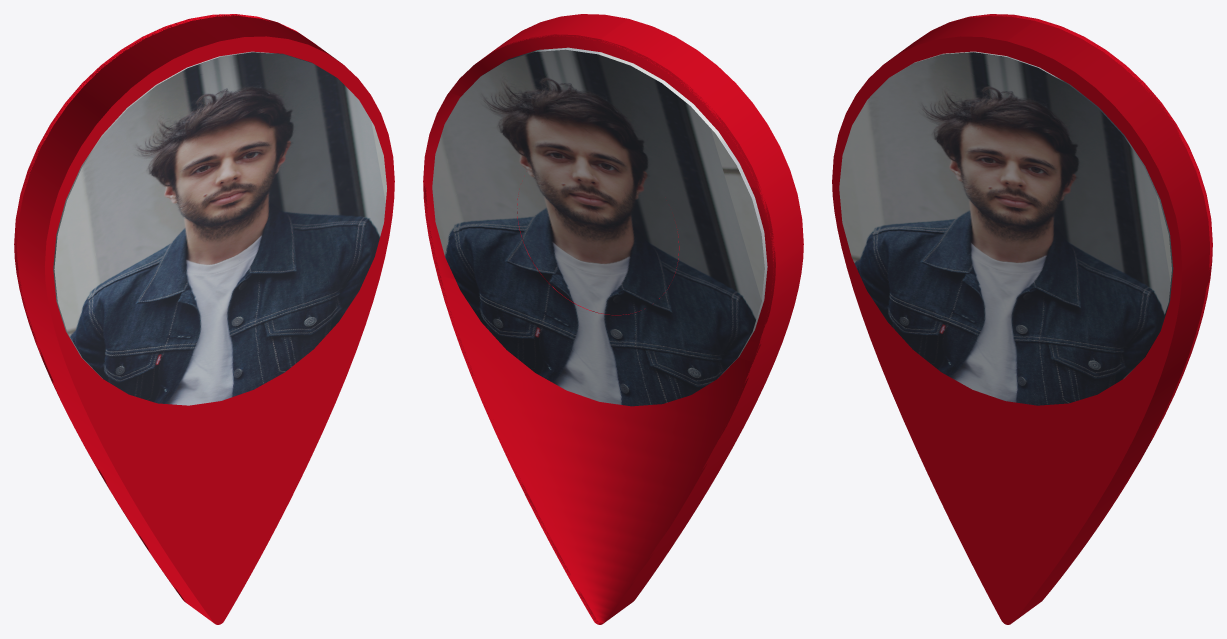
The model's file is alexis.glb.
3 renders of one model, left to right at view 1: azimuth 30°, elevation 25°; view 2: azimuth 150°, elevation 25°; view 3: azimuth 330°, elevation 25°, orthographic.
Visible parts, largest first — view 1: Cylindre, Curve; view 2: Cylindre, Curve; view 3: Cylindre, Curve.
Part boxes in pixels (x1,y1,x2,y2): Cylindre: [53, 51, 386, 405]; Curve: [14, 14, 394, 624]; Cylindre: [432, 47, 767, 406]; Curve: [423, 14, 803, 624]; Cylindre: [839, 51, 1173, 405]; Curve: [832, 14, 1212, 624].
Size of the model in its own units: 0.2766 by 0.4404 by 0.0448.
2 materials, 1 textured.
